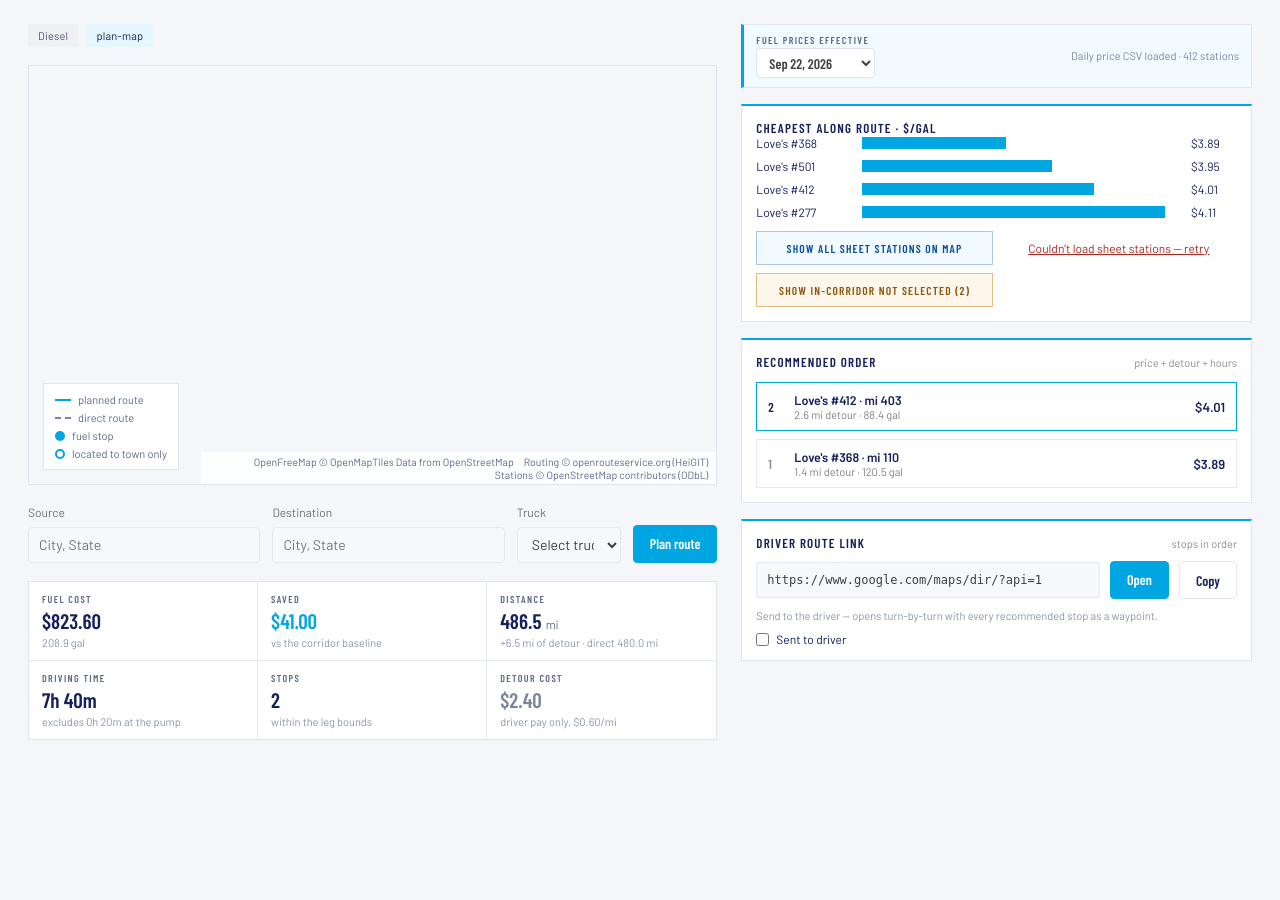
Test: PlanTab map-layer toggles (T-23 step 23.2, drift item 1) › a failed sheet-stations load says so and offers a retry, instead of a silently stuck (0)
The image size is (1280, 900).
Expected: the button "Show all sheet stations on map" is disabled, top-left (756, 231), bottom-right (993, 265)
Click the button "Couldn’t load sheet stations — retry": x=1119, y=248 top-left (1001, 231), bottom-right (1237, 265)
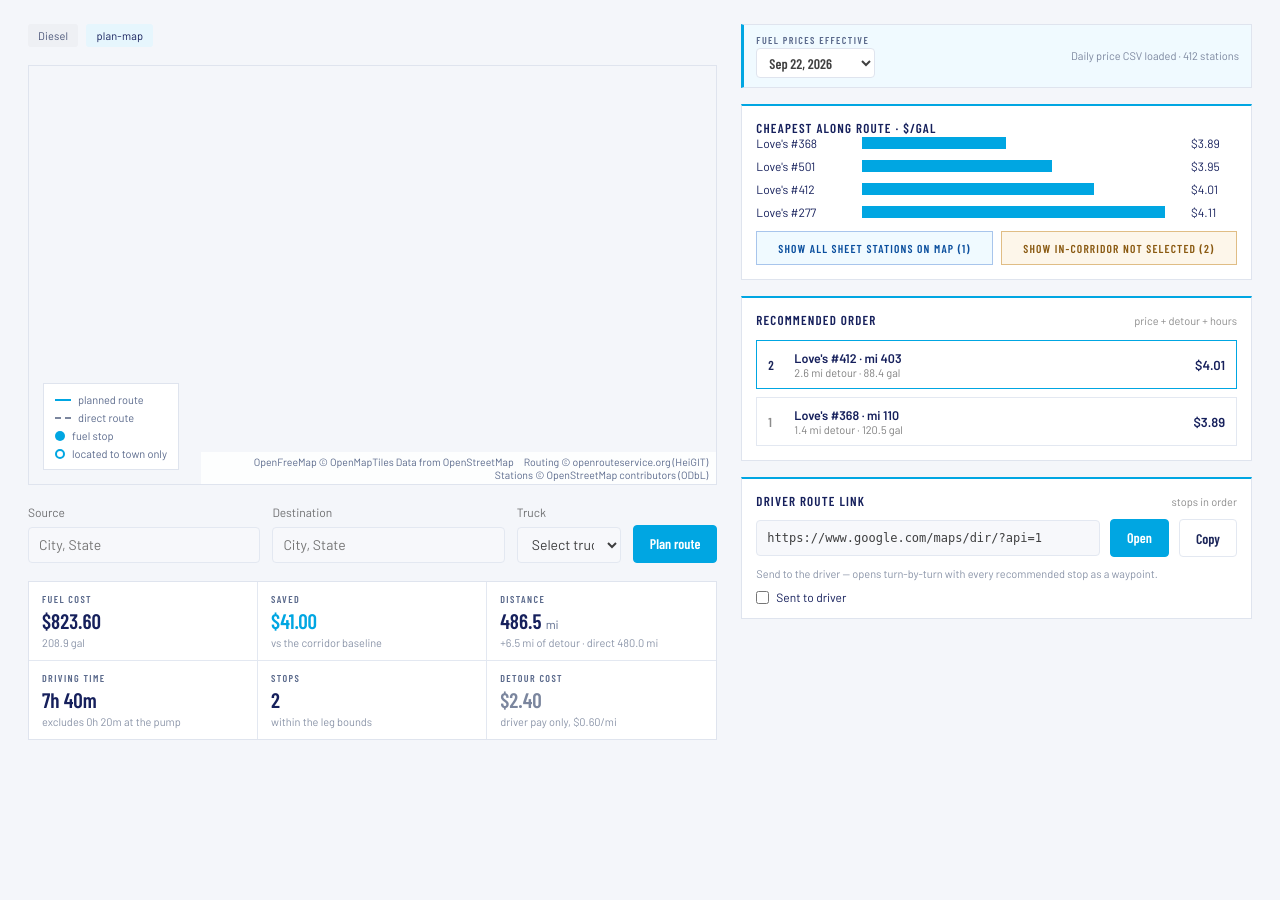
Result: the button "Show all sheet stations on map (1)" is shown at top-left (756, 231), bottom-right (993, 265)
